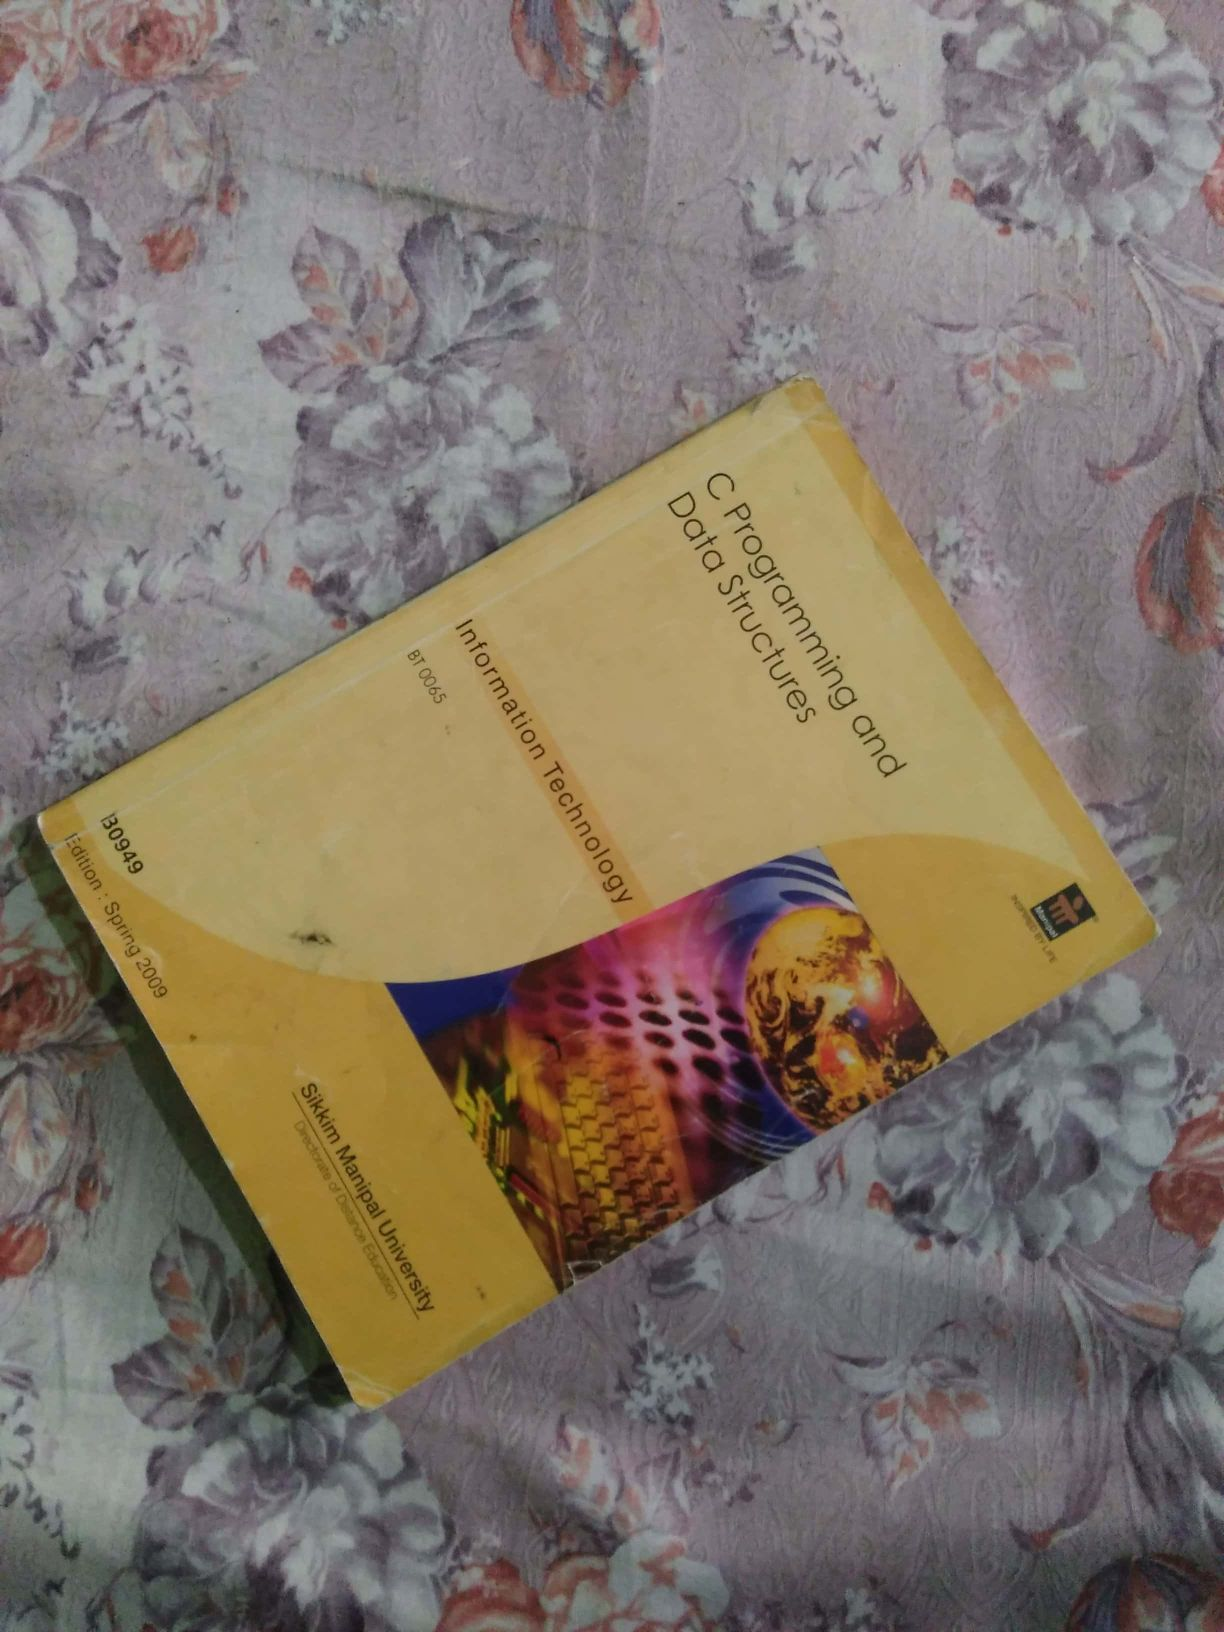clang: (129, 361, 1115, 1345)
